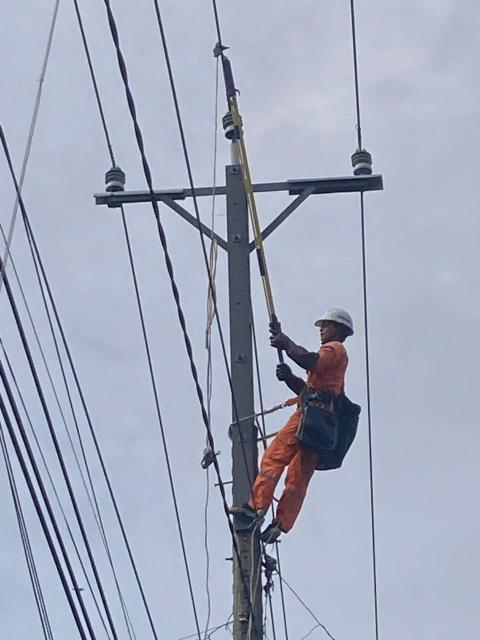gloves: (273, 320, 323, 379), (269, 352, 308, 402)
harness: (292, 374, 348, 420)
helmet: (312, 296, 361, 343)
shoes: (220, 493, 263, 522), (255, 520, 285, 551)
